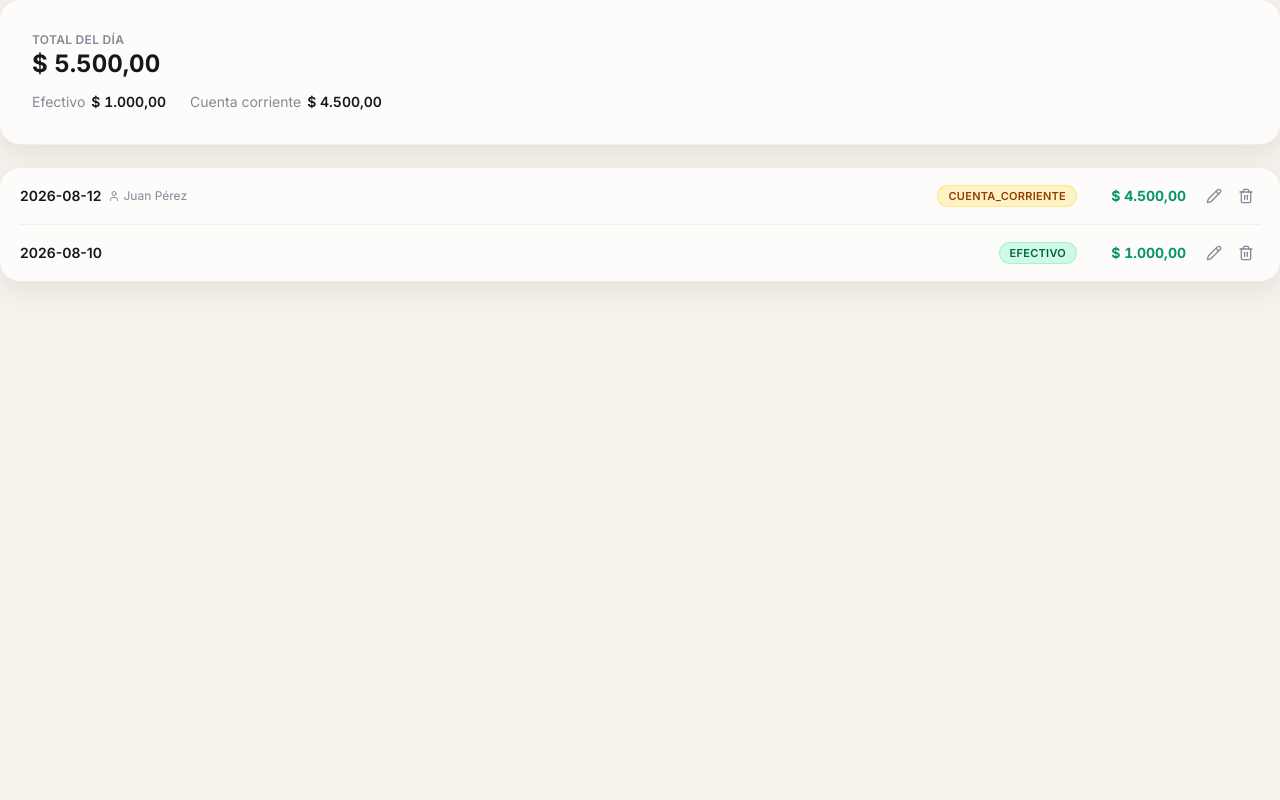
Test: VentasList — deleting a fiado opens the debt warning (task 8.1) › names the customer and amount, and sends no DELETE until confirmed
Check: the text "Juan Pérez" is shown, box [108, 188, 187, 204]
Click the button named "eliminar venta venta-2": (1246, 196) [1232, 182, 1260, 210]
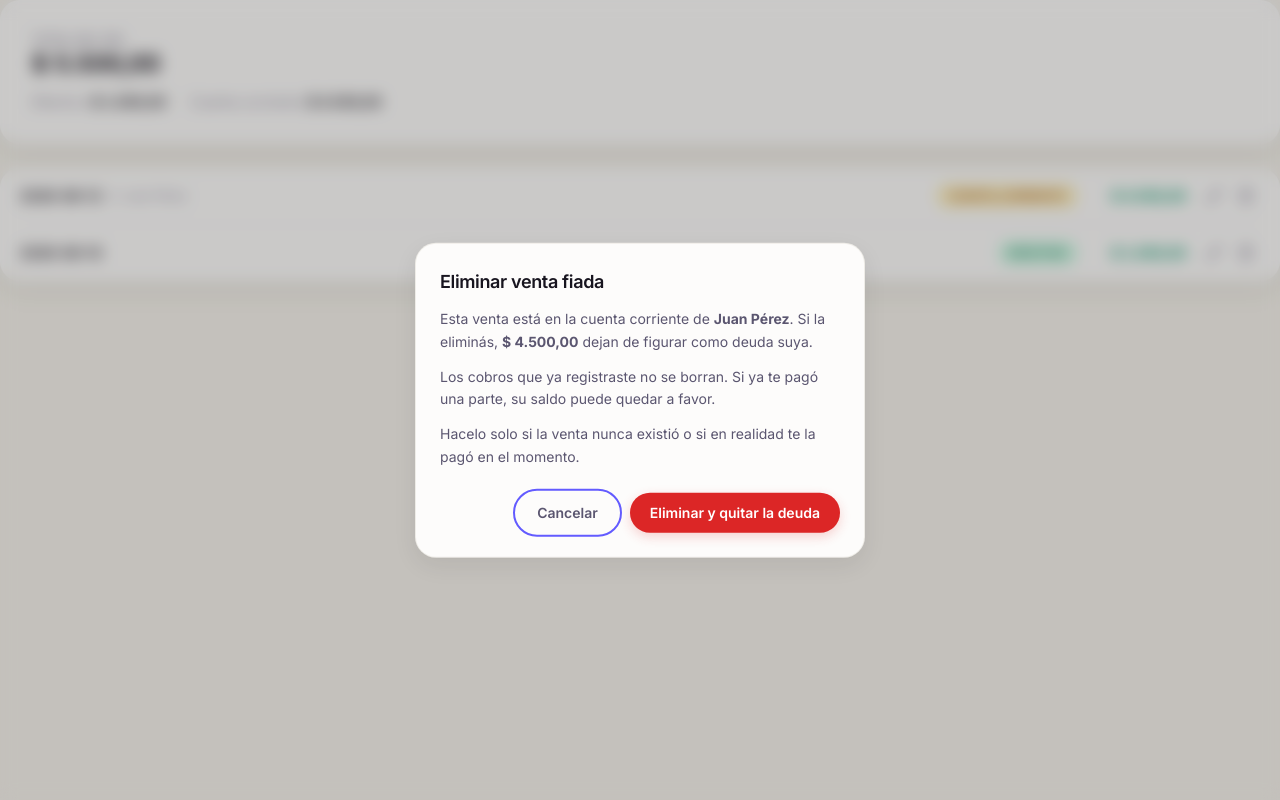
Check: the dialog is shown, box [416, 244, 864, 556]
Check: the dialog shows "Juan Pérez", box [714, 310, 790, 327]
